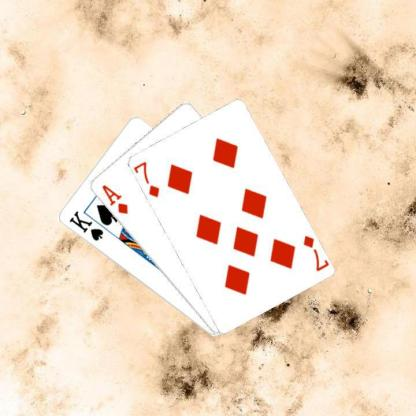7D: (132, 159, 161, 199), (300, 232, 328, 273)
AD: (99, 182, 129, 216)
KS: (66, 209, 104, 242)
